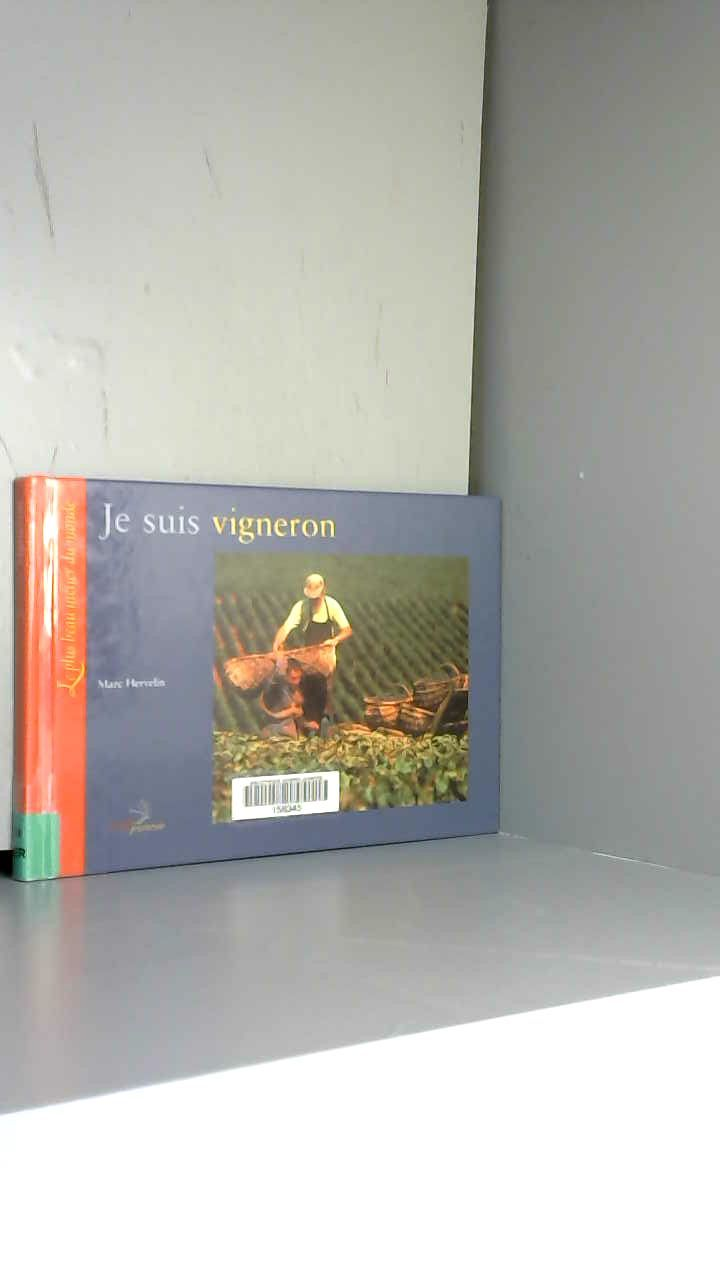book: (0, 466, 522, 892)
